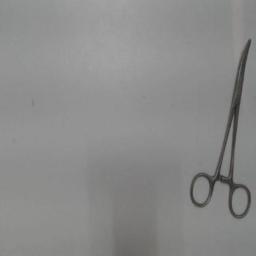Crile Artery Forceps: (186, 34, 254, 222)
